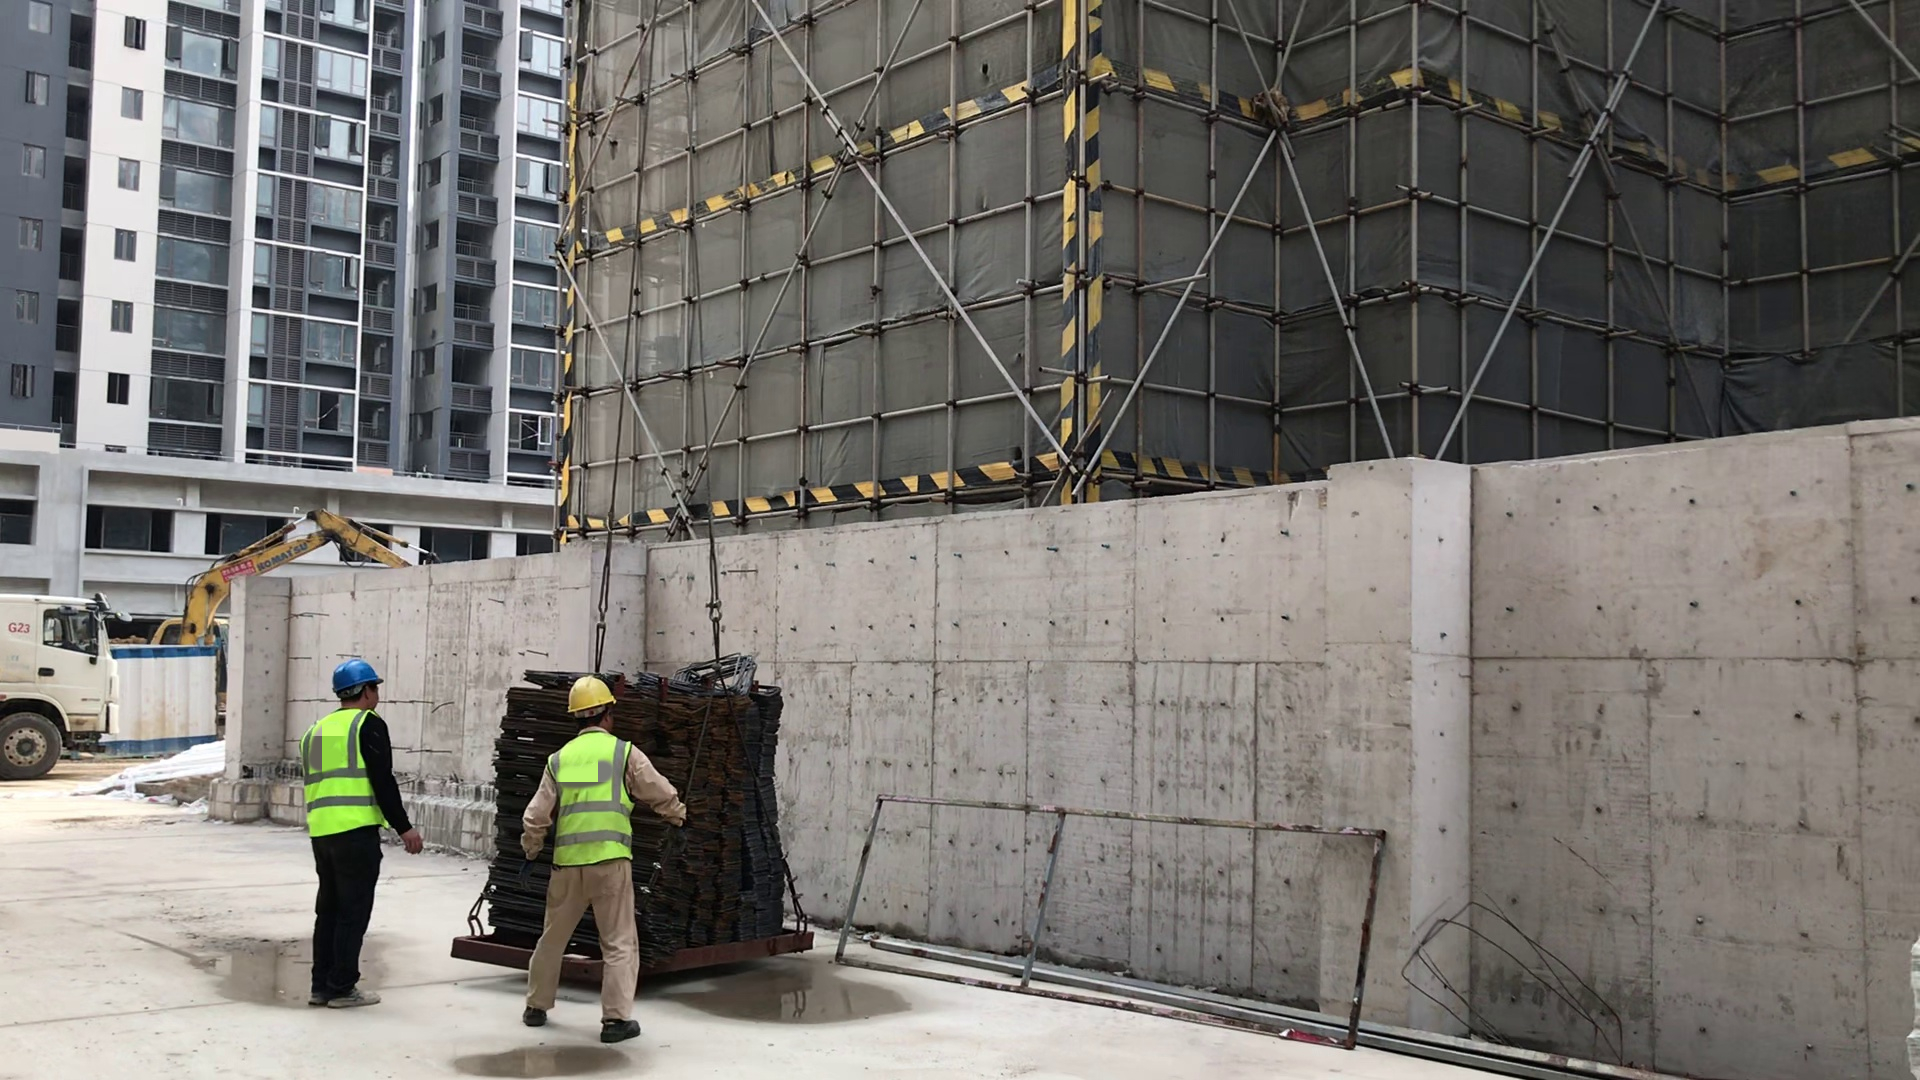helmet: (327, 650, 388, 700), (559, 673, 619, 722)
person: (532, 670, 649, 1056), (312, 652, 413, 1019)
vest: (544, 739, 635, 862), (294, 718, 384, 834)
